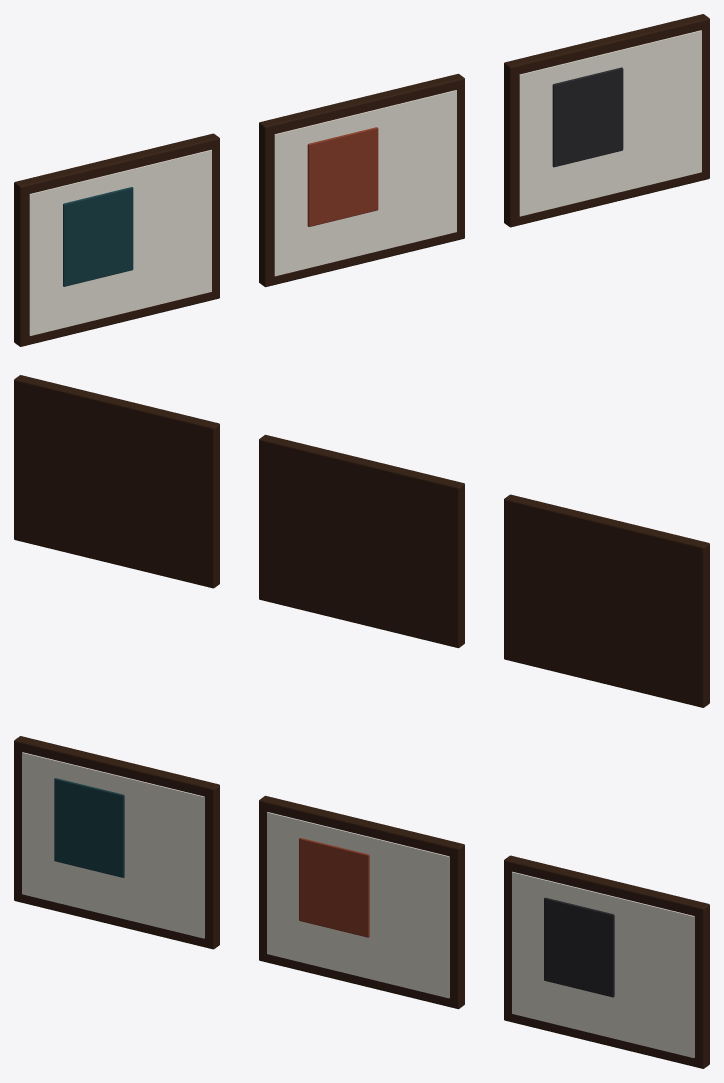
File: modern_wall_art.obj
3 renders of one model, top to bottom at view 1: azimuth 30°, elevation 25°; view 2: azimuth 150°, elevation 25°; view 3: azimuth 330°, elevation 25°, orthographic.
Parts seen in each view (by area): view 1: canvas_0, canvas_2, canvas_1, frame_2, frame_0, frame_1, bar_2, bar_1, bar_0; view 2: frame_0, frame_2, frame_1; view 3: canvas_0, canvas_1, canvas_2, frame_0, frame_2, frame_1, bar_2, bar_1, bar_0.
Boxes of the visible parts, x1,y1,x2,y2 form: canvas_0: (29, 149, 211, 335); canvas_2: (519, 30, 701, 216); canvas_1: (274, 90, 456, 276); frame_2: (504, 14, 709, 227); frame_0: (14, 133, 219, 346); frame_1: (259, 73, 464, 287); bar_2: (552, 67, 623, 167); bar_1: (307, 127, 378, 226); bar_0: (63, 187, 133, 286); frame_0: (504, 494, 709, 707); frame_2: (14, 375, 219, 588); frame_1: (259, 434, 464, 648); canvas_0: (22, 752, 204, 938); canvas_1: (267, 812, 449, 998); canvas_2: (512, 871, 694, 1057); frame_0: (14, 736, 219, 949); frame_2: (504, 855, 709, 1068); frame_1: (259, 795, 464, 1009); bar_2: (544, 897, 614, 997); bar_1: (299, 837, 369, 937); bar_0: (54, 778, 124, 877).
Bounding box in the file's own units: 2.96 × 0.66 × 0.062.
